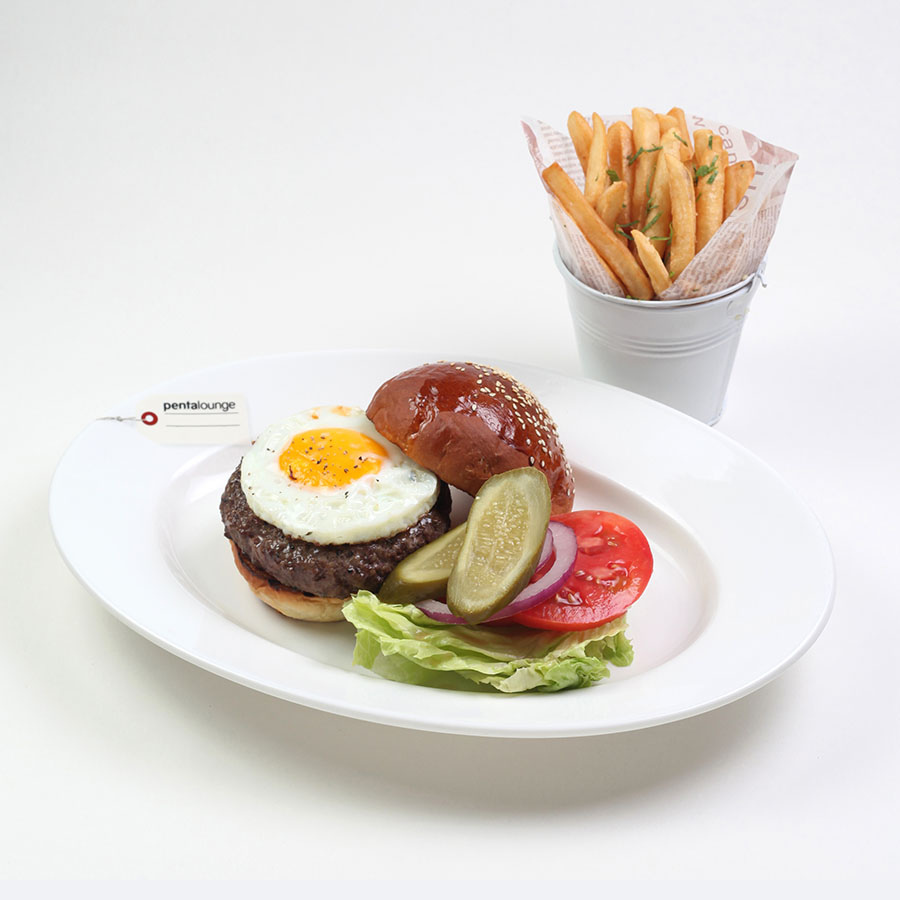chopped lettuce: (359, 594, 621, 703)
fried egg: (257, 416, 417, 521)
slice of bread: (365, 361, 571, 484), (234, 582, 366, 630)
